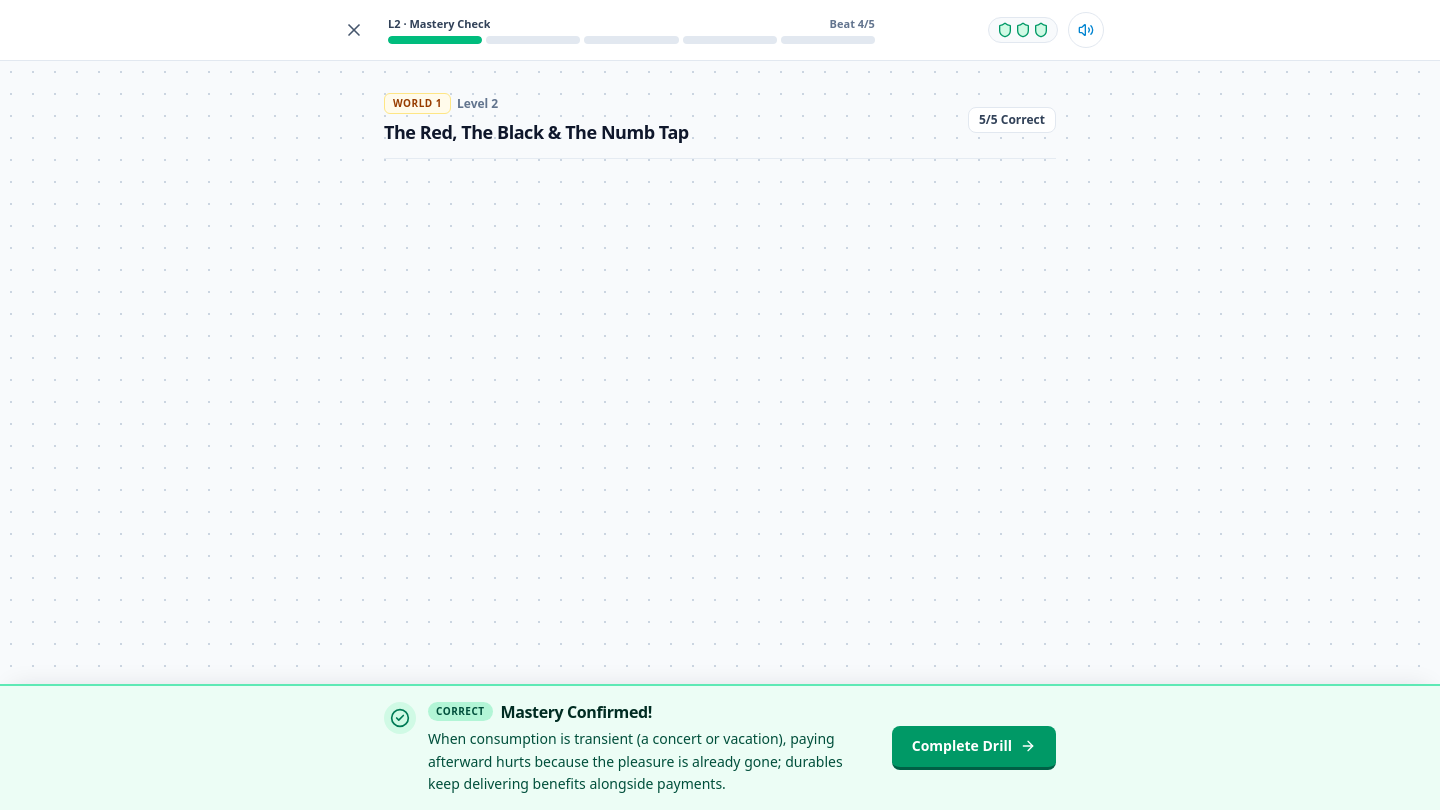
Test case: Phase 5C: Full 5-Beat Arena, Domain Integration, Persistence & Navigation › blocks false victory when save fails and retries the exact calculated progress without recomputing XP
Earlier steps of the test are not shown.
Later steps or results of the test are not shown.
Click the button "Complete Drill" at (974, 748), box [892, 726, 1056, 770]
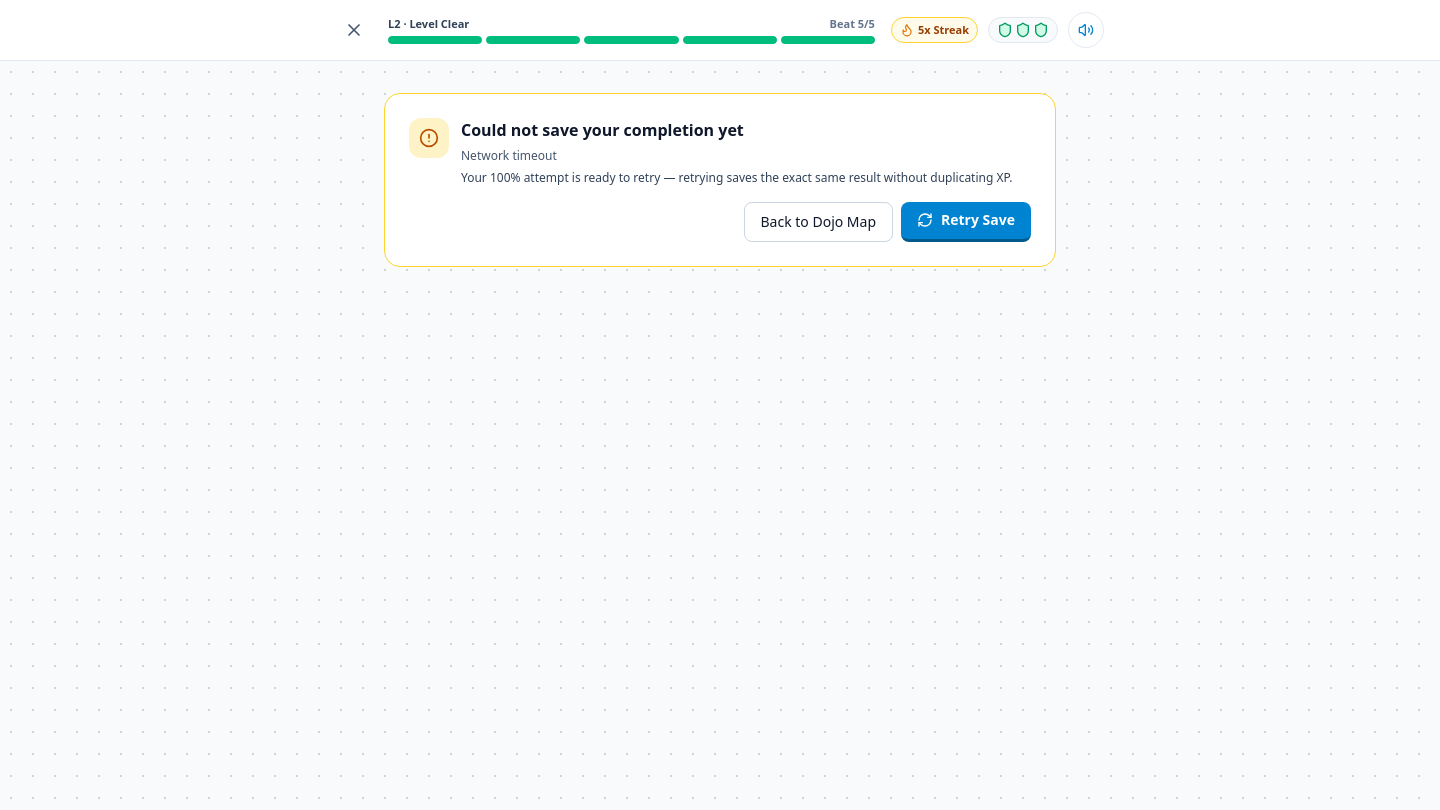
Expected: the heading "Could not save your completion yet" is shown, [461, 119, 744, 141]
